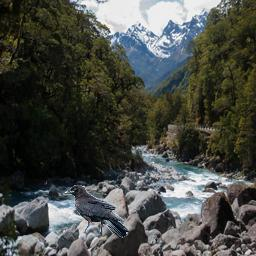Crow: (63, 185, 129, 238)
